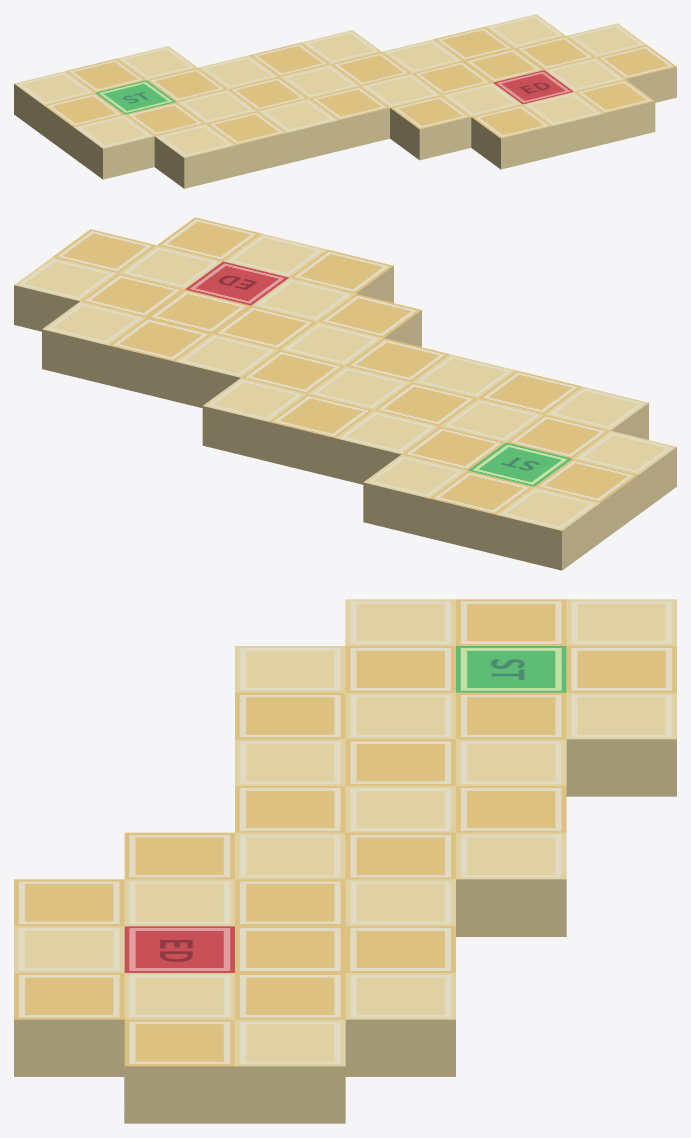
File: mazeBlock1.glb
The picture shows the model from 3 angles, top to bottom: view 1: azimuth 30°, elevation 25°; view 2: azimuth 150°, elevation 25°; view 3: azimuth 270°, elevation 25°; orthographic projection. The views are drawn at different scales.
Parts seen in each view (by area): view 1: 立方体.033, 立方体.030, 立方体.020, 立方体.008, 立方体.031, 立方体.011, 立方体.032, 立方体.012, 立方体.019, 立方体.034, 立方体.003, 立方体.004 (+23 smaller); view 2: 立方体.004, 立方体.002, 立方体.022, 立方体.001, 立方体.018, 立方体.021, 立方体.017, 立方体.024, 立方体.015, 立方体.035, 立方体.008, 立方体.003 (+23 smaller); view 3: 立方体.002, 立方体.017, 立方体.035, 立方体.034, 立方体.022, 立方体.031, 立方体.009, 立方体.023, 立方体.033, 立方体.010, 立方体.013, 立方体.024 (+23 smaller).
Boxes of the visible parts, bbox=[...] form: 立方体.033: bbox=[471, 104, 552, 169]; 立方体.030: bbox=[390, 95, 471, 160]; 立方体.020: bbox=[154, 124, 235, 188]; 立方体.008: bbox=[73, 114, 154, 179]; 立方体.031: bbox=[574, 79, 655, 144]; 立方体.011: bbox=[257, 98, 338, 163]; 立方体.032: bbox=[523, 92, 603, 156]; 立方体.012: bbox=[309, 86, 389, 150]; 立方体.019: bbox=[206, 111, 286, 175]; 立方体.034: bbox=[596, 45, 676, 102]; 立方体.003: bbox=[43, 93, 124, 157]; 立方体.004: bbox=[14, 71, 94, 135]; 立方体.004: bbox=[496, 487, 600, 570]; 立方体.002: bbox=[363, 454, 467, 538]; 立方体.022: bbox=[42, 301, 146, 384]; 立方体.001: bbox=[429, 470, 533, 554]; 立方体.018: bbox=[269, 394, 372, 477]; 立方体.021: bbox=[108, 317, 212, 401]; 立方体.017: bbox=[202, 378, 306, 461]; 立方体.024: bbox=[174, 333, 278, 408]; 立方体.015: bbox=[335, 410, 439, 484]; 立方体.035: bbox=[14, 257, 117, 331]; 立方体.008: bbox=[572, 431, 676, 514]; 立方体.003: bbox=[534, 459, 638, 542]; 立方体.002: bbox=[566, 692, 676, 796]; 立方体.017: bbox=[456, 832, 566, 936]; 立方体.035: bbox=[235, 1019, 345, 1123]; 立方体.034: bbox=[124, 1019, 234, 1123]; 立方体.022: bbox=[345, 973, 455, 1076]; 立方体.031: bbox=[14, 973, 124, 1076]; 立方体.009: bbox=[345, 692, 455, 739]; 立方体.023: bbox=[235, 879, 345, 926]; 立方体.033: bbox=[14, 879, 124, 926]; 立方体.010: bbox=[235, 832, 345, 879]; 立方体.013: bbox=[345, 832, 455, 879]; 立方体.024: bbox=[345, 879, 455, 926].
Size of the model in its own units: 50 by 2.87 by 30.
Materials: 70 (35 with a texture image).
